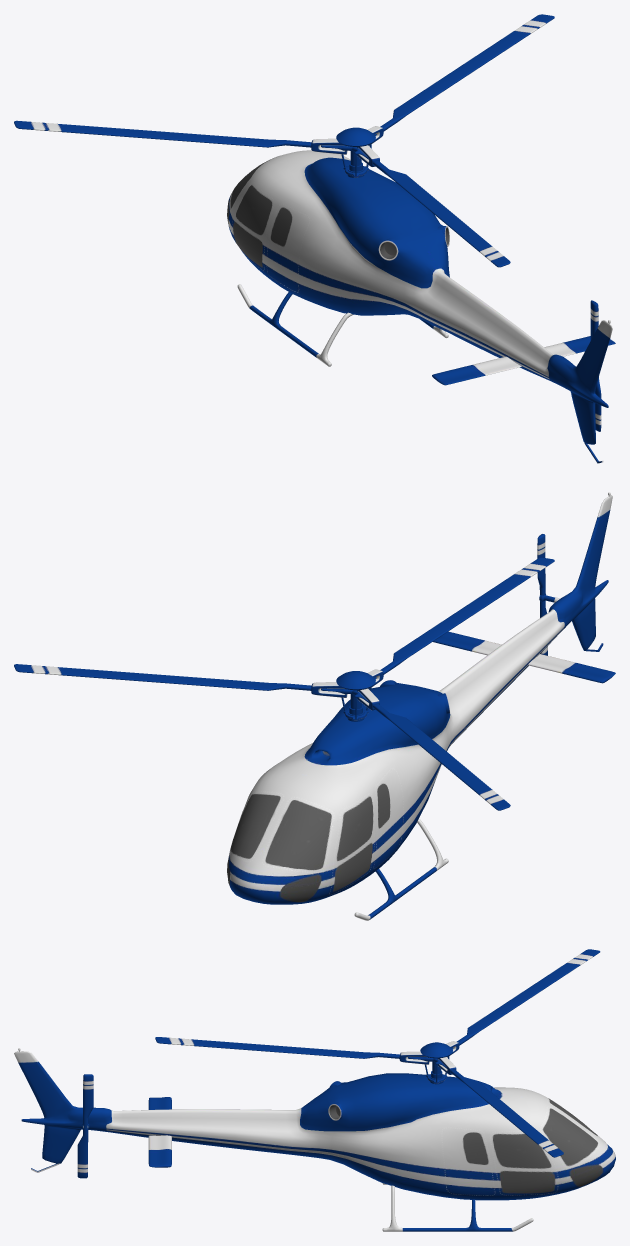
Rendered from helicoptero.glb.
3 renders of one model, top to bottom at view 1: azimuth 30°, elevation 25°; view 2: azimuth 150°, elevation 25°; view 3: azimuth 270°, elevation 25°, orthographic. The views are drawn at different scales.
Parts seen in each view (by area): view 1: Corpo_Cube.008, Rotor_Cube.003, Corpo_Cube.001, Corpo_Cube.002, Corpo_Sphere, Rotor_Cube.009; view 2: Corpo_Cube.008, Rotor_Cube.003, Corpo_Cube.001, Corpo_Cube.002, Corpo_Sphere, Rotor_Cube.009; view 3: Corpo_Cube.008, Rotor_Cube.003, Corpo_Cube.001, TailRotor_Plane, Corpo_Cube.002, Corpo_Sphere, Rotor_Cube.009.
Boxes of the visible parts, left/top/right/bottom form: Corpo_Cube.008: left=227, top=150, right=612, bottom=444; Rotor_Cube.003: left=14, top=14, right=554, bottom=267; Corpo_Cube.001: left=432, top=336, right=615, bottom=385; Corpo_Cube.002: left=237, top=284, right=448, bottom=366; Corpo_Sphere: left=336, top=127, right=375, bottom=177; Rotor_Cube.009: left=311, top=126, right=383, bottom=166; Corpo_Cube.008: left=227, top=495, right=612, bottom=904; Rotor_Cube.003: left=14, top=557, right=554, bottom=810; Corpo_Cube.001: left=433, top=631, right=615, bottom=683; Corpo_Cube.002: left=354, top=819, right=448, bottom=920; Corpo_Sphere: left=336, top=671, right=375, bottom=721; Rotor_Cube.009: left=311, top=669, right=383, bottom=710; Corpo_Cube.008: left=14, top=1051, right=615, bottom=1200; Rotor_Cube.003: left=155, top=949, right=600, bottom=1157; Corpo_Cube.001: left=148, top=1097, right=171, bottom=1167; TailRotor_Plane: left=77, top=1074, right=93, bottom=1178; Corpo_Cube.002: left=382, top=1183, right=533, bottom=1231; Corpo_Sphere: left=420, top=1042, right=452, bottom=1084; Rotor_Cube.009: left=399, top=1041, right=459, bottom=1074.
Size of the model in its own units: 7.34 by 2.7 by 9.
1 material, 1 textured.
